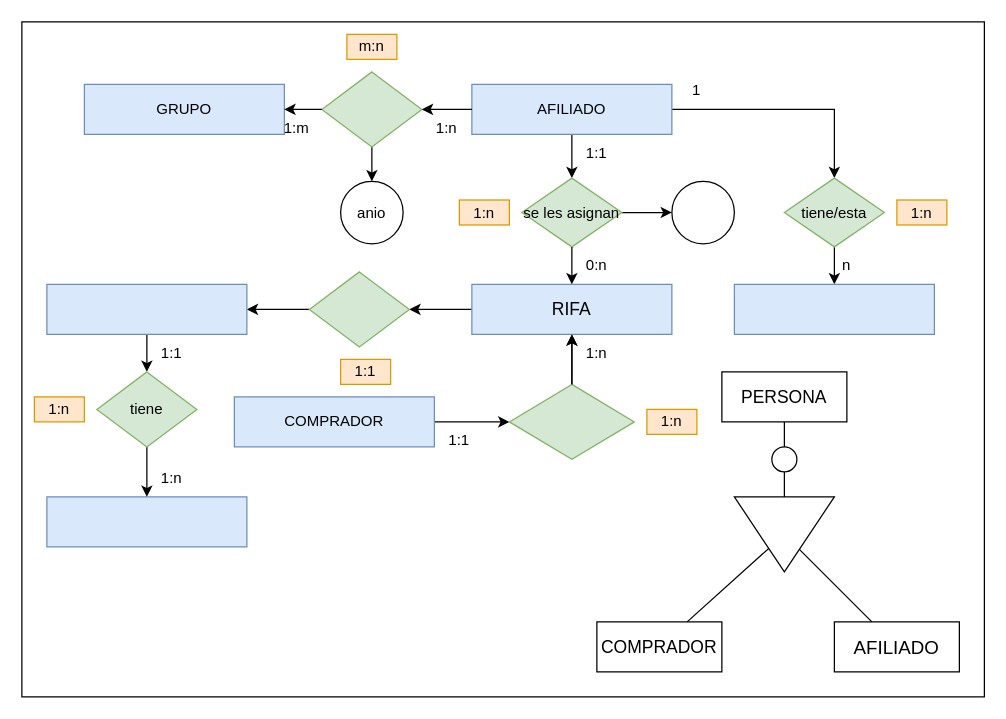
Some shapes in this 1006 by 719 pixel diagram are drawn without their labels. Here are the shapes that lost their labels. From the top down, the centre of each, then its label:
At [371,109]: "pertenece".
At [702,212]: "cantidad".
At [146,308]: "INFO_COUTA".
At [358,309]: "pagaEn".
At [833,308]: "HISTORIAL_VENTA".
At [571,421]: "compra".
At [146,521]: "COUTAS".
